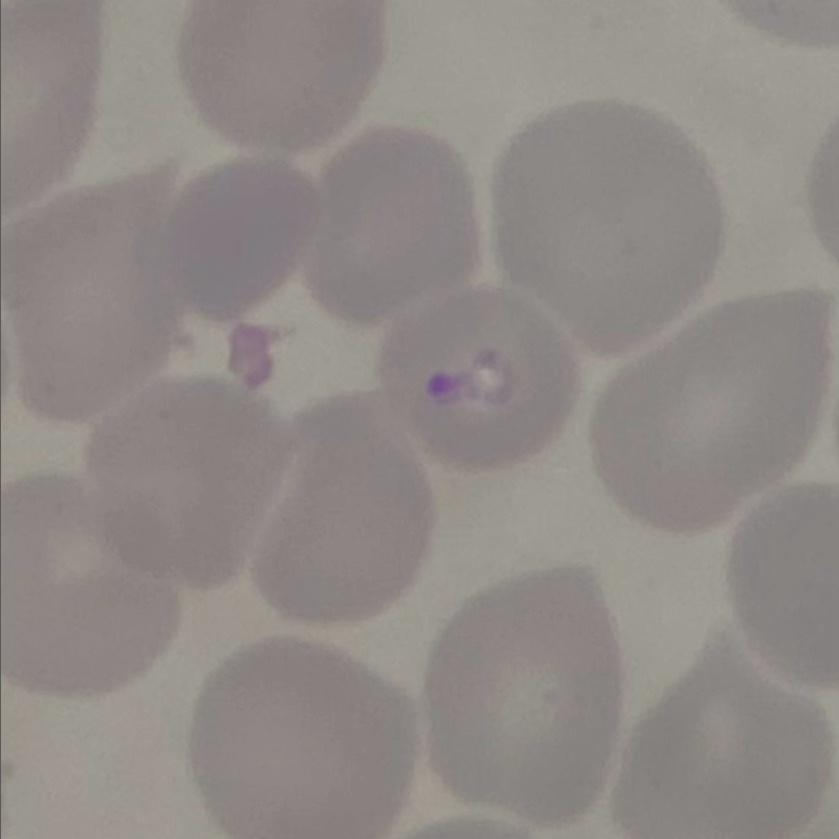Infected: (373, 285, 581, 465)
Uninfected: (587, 292, 839, 532), (492, 95, 725, 351), (422, 567, 625, 819), (617, 622, 839, 839), (192, 637, 426, 839), (0, 167, 187, 418), (82, 372, 293, 591), (0, 470, 183, 693), (248, 390, 427, 616), (310, 127, 483, 323), (180, 0, 381, 148), (168, 147, 314, 316)
